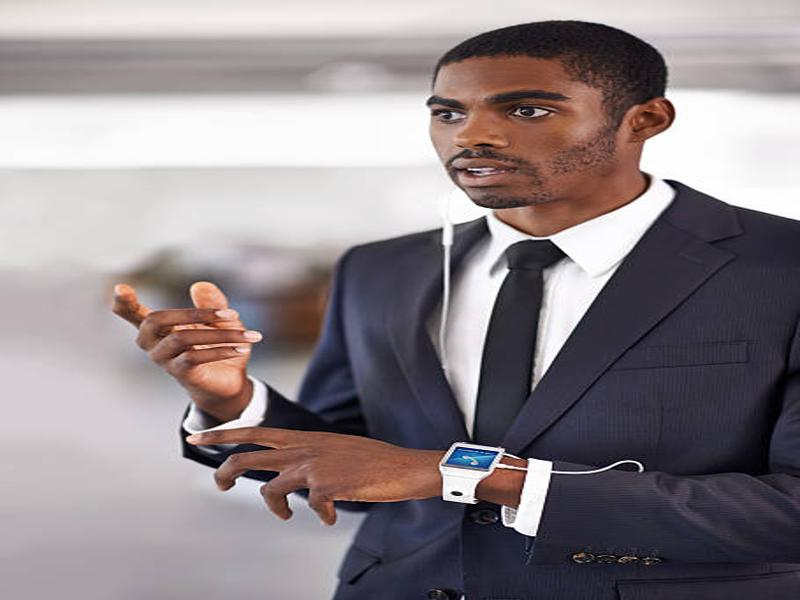watch: (438, 440, 505, 505)
